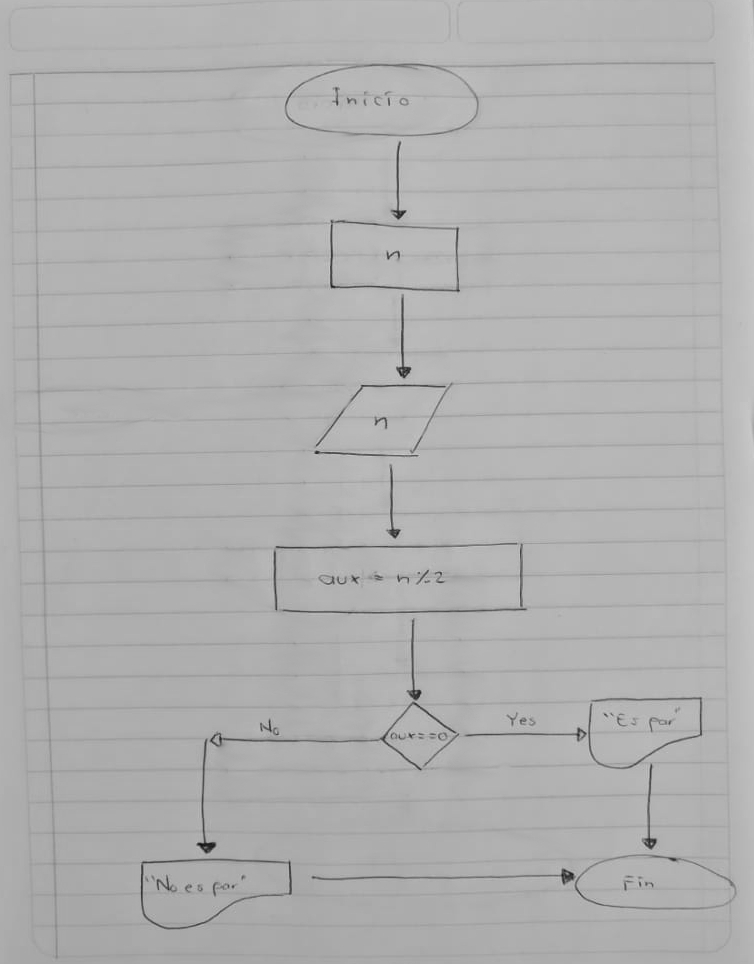arrow_line_down: (196, 734, 217, 858), (403, 614, 426, 702), (393, 292, 413, 385), (381, 459, 403, 542), (641, 762, 661, 850), (391, 139, 407, 222)
arrow_line_left: (207, 727, 381, 749)
arrow_line_right: (303, 866, 579, 891), (463, 721, 588, 745)
decision: (379, 700, 461, 775)
print: (137, 855, 295, 933), (585, 692, 706, 772)
process: (269, 537, 530, 618), (324, 215, 464, 297)
scan: (311, 379, 456, 461)
start_end: (282, 61, 482, 139), (575, 848, 739, 914)
